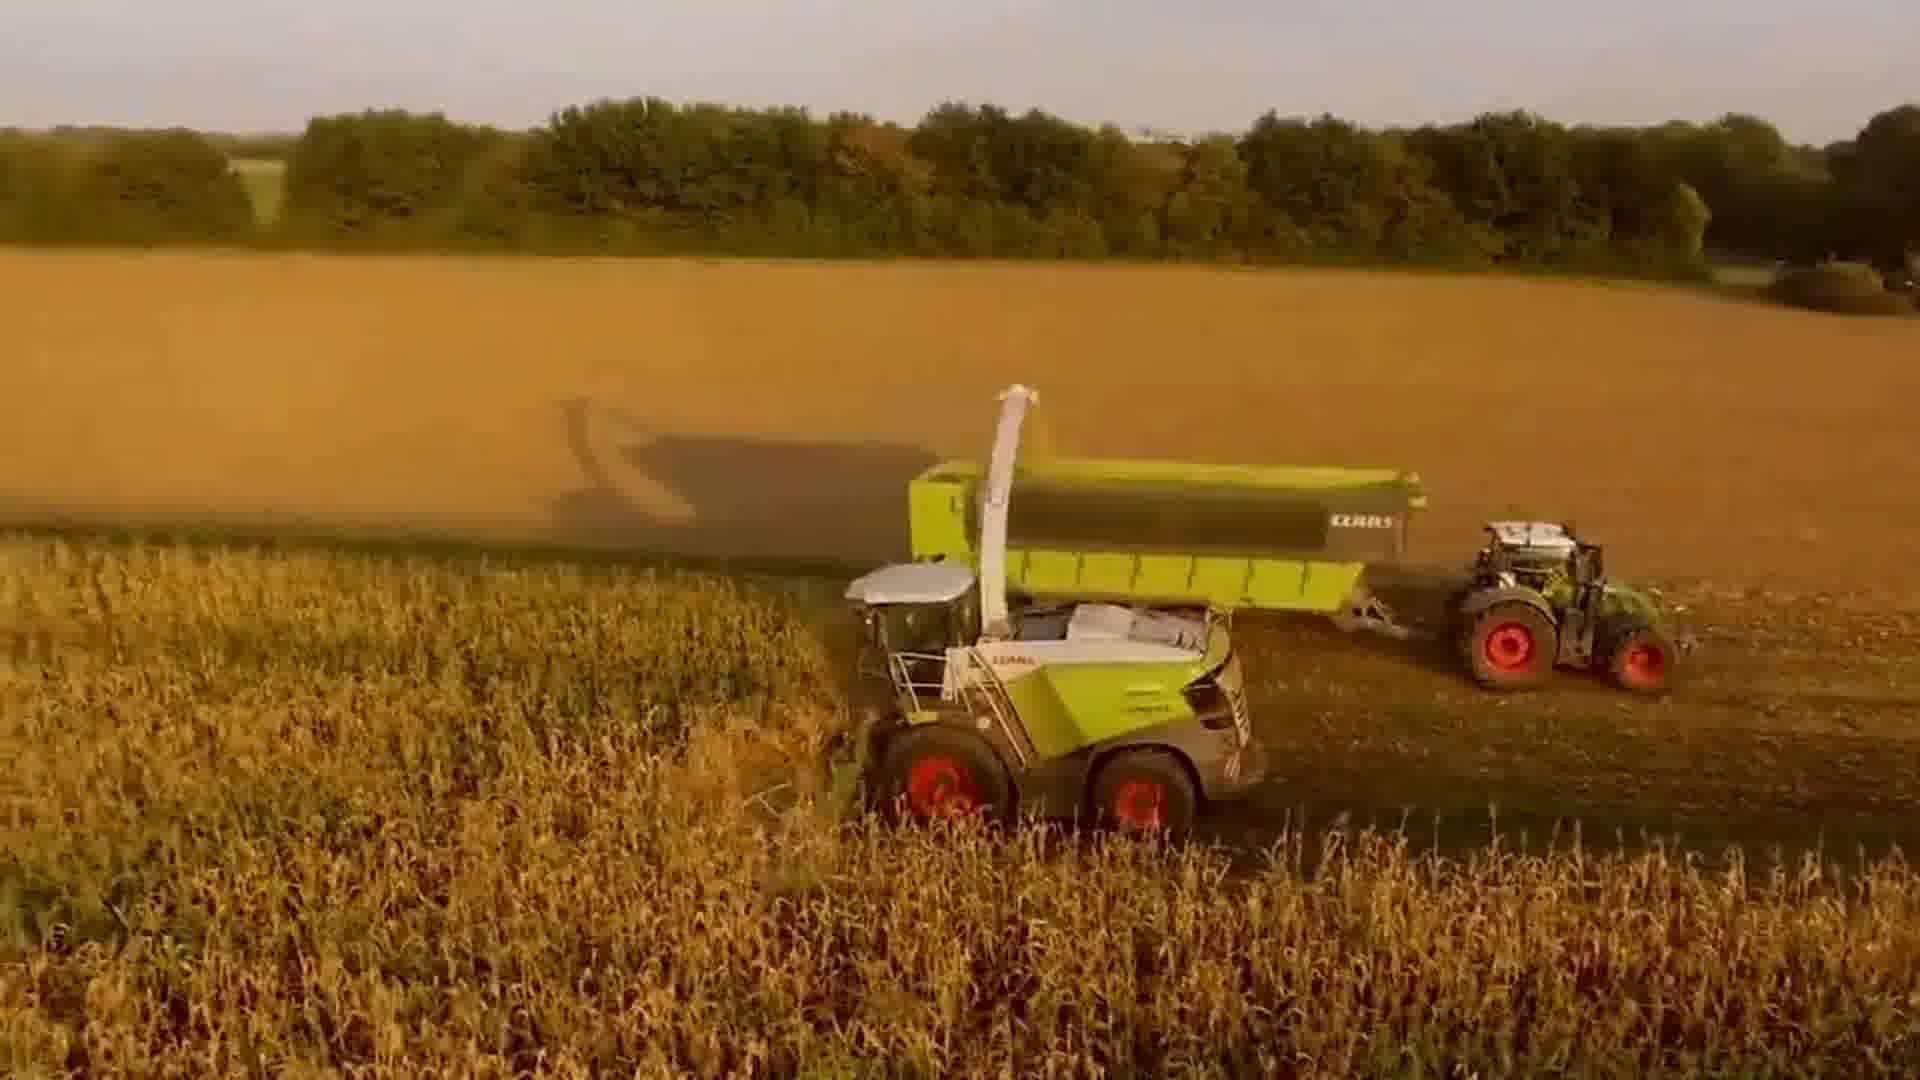combine harvester: (750, 378, 1262, 857)
tractor: (1444, 512, 1702, 705)
trailer: (891, 450, 1436, 641)
